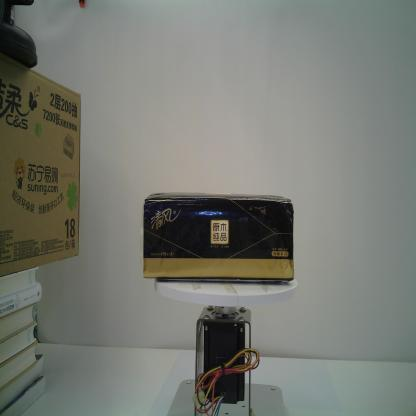Tissue: (143, 191, 294, 282)
